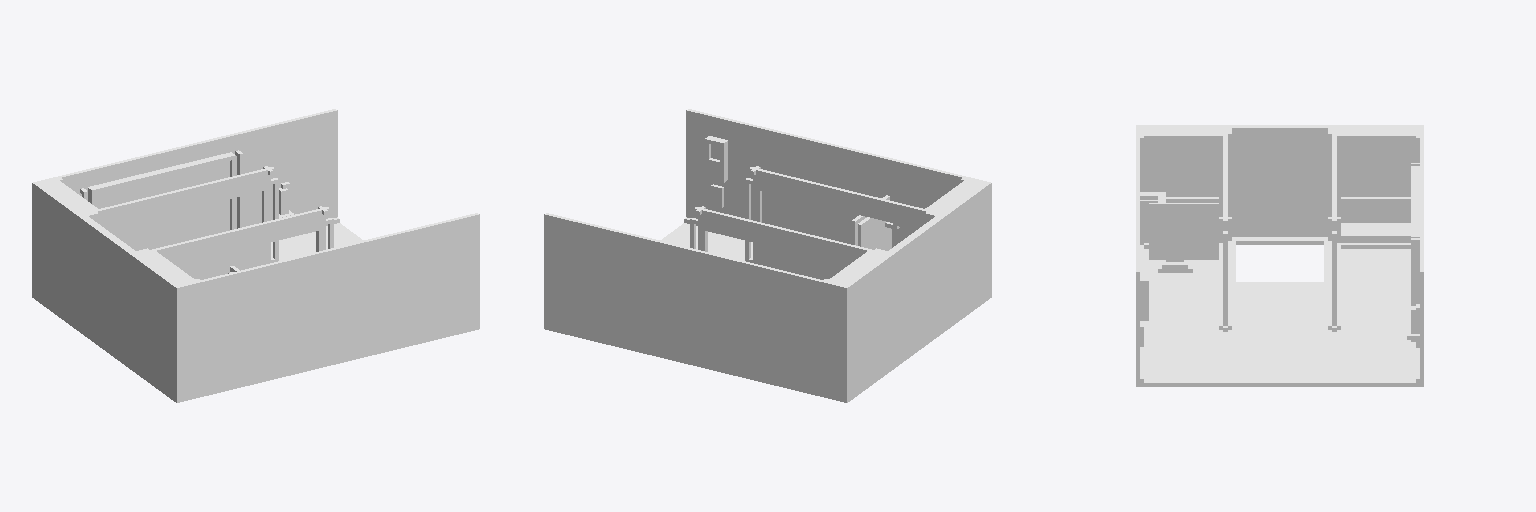
File: SC_SpaceShip_Temp.obj
The picture shows the model from 3 angles: view 1: azimuth 30°, elevation 25°; view 2: azimuth 150°, elevation 25°; view 3: azimuth 270°, elevation 25°; orthographic projection.
Size of the model in its own units: 80 by 29 by 66.